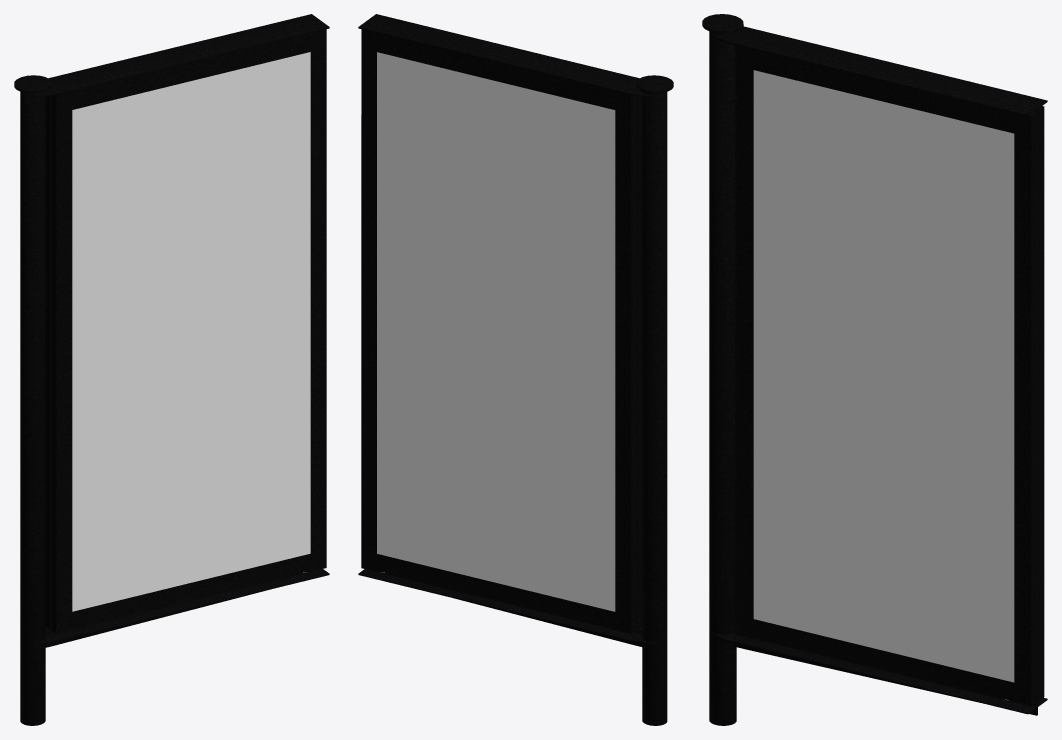
The model's file is 1_Leg_outdoor_city_floorstand.fbx.
3 renders of one model, left to right at view 1: azimuth 30°, elevation 25°; view 2: azimuth 150°, elevation 25°; view 3: azimuth 330°, elevation 25°, orthographic. The views are drawn at different scales.
Visible parts, largest first — view 1: 1_Leg_outdoor_city_floorstand_Ad001, 1_Leg_outdoor_city_floorstand_Frame; view 2: 1_Leg_outdoor_city_floorstand_Ad002, 1_Leg_outdoor_city_floorstand_Frame; view 3: 1_Leg_outdoor_city_floorstand_Ad001, 1_Leg_outdoor_city_floorstand_Frame.
Boxes of the visible parts, bbox=[...] form: 1_Leg_outdoor_city_floorstand_Ad001: bbox=[72, 52, 310, 611]; 1_Leg_outdoor_city_floorstand_Frame: bbox=[14, 14, 329, 725]; 1_Leg_outdoor_city_floorstand_Ad002: bbox=[377, 52, 615, 611]; 1_Leg_outdoor_city_floorstand_Frame: bbox=[358, 14, 673, 725]; 1_Leg_outdoor_city_floorstand_Ad001: bbox=[753, 70, 1014, 682]; 1_Leg_outdoor_city_floorstand_Frame: bbox=[702, 14, 1047, 725].
Bounding box in the file's own units: 29.99 × 60 × 3.08.
3 materials, 3 textured.
